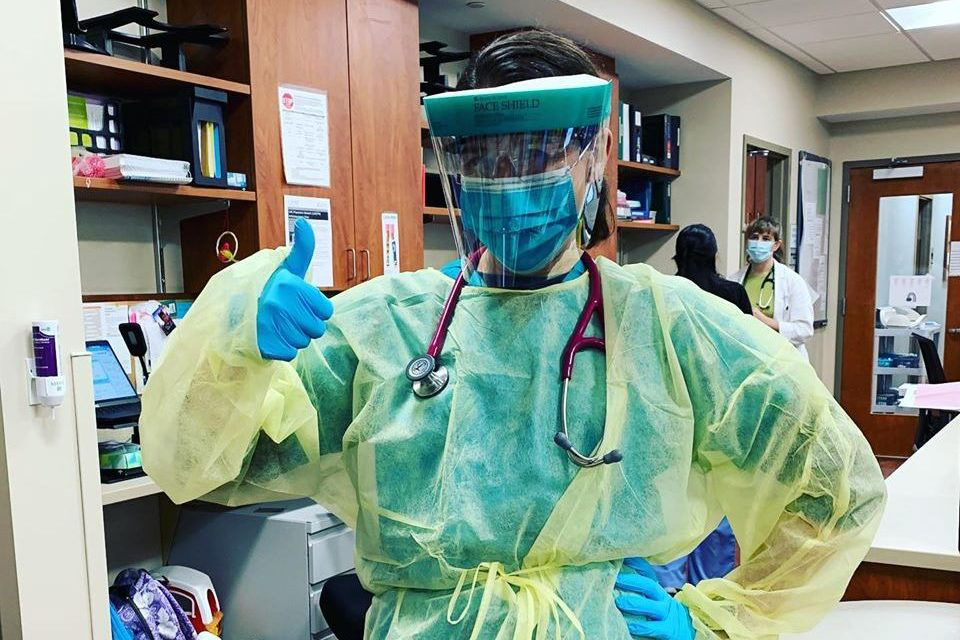Coverall: (144, 254, 885, 640)
Face_Shield: (421, 73, 621, 300)
Gloves: (257, 213, 332, 364), (613, 571, 694, 637)
Goggles: (446, 136, 578, 183)
with_mask: (458, 163, 585, 276), (749, 240, 773, 260)
